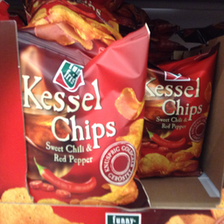chips: (16, 30, 148, 205), (145, 64, 216, 180)
